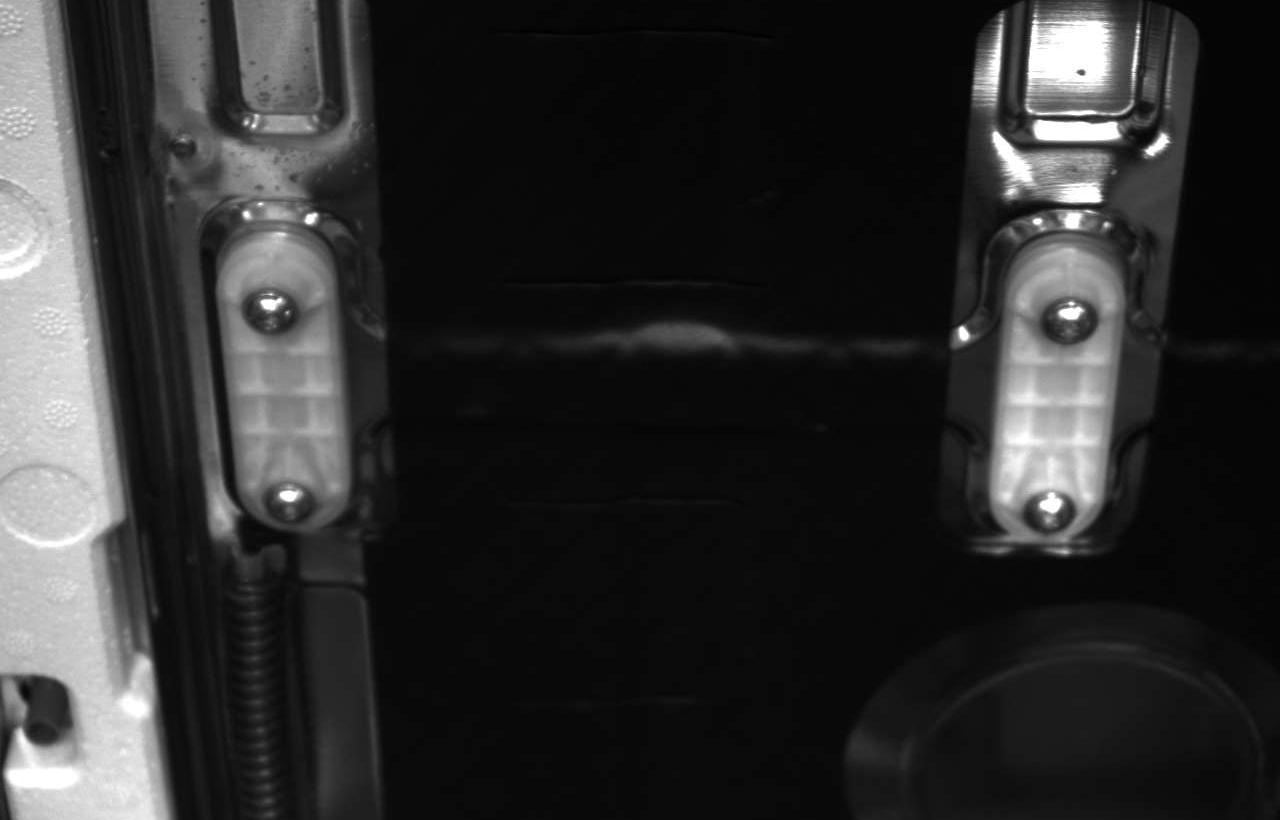vida-ok: (231, 279, 303, 347), (1017, 475, 1083, 544), (1037, 287, 1104, 354), (253, 475, 319, 534)
